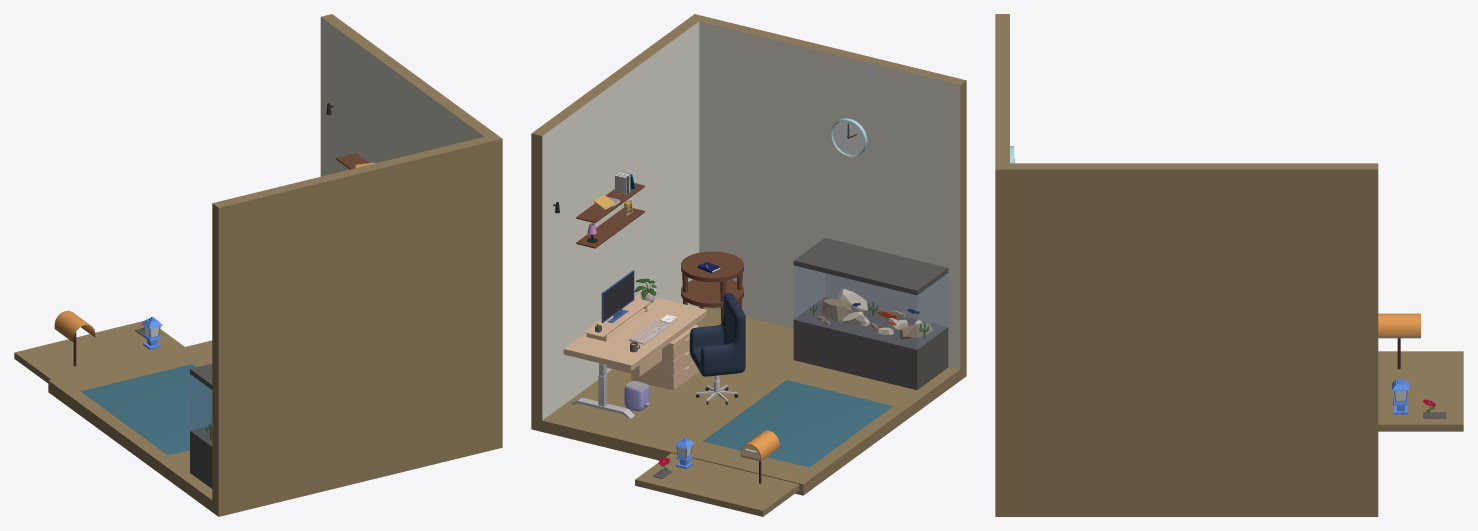
File: Final Isometric Room.glb
3 renders of one model, left to right at view 1: azimuth 30°, elevation 25°; view 2: azimuth 150°, elevation 25°; view 3: azimuth 270°, elevation 25°, orthographic. The views are drawn at different scales.
Parts seen in each view (by area): view 1: Cube, Plane, Side Floor, Cube.124, Fishpound Glass, Cylinder.007; view 2: Cube, Cube.124, Fishpound Glass, Plane, Side Floor, Table Top, Chair Seat, Round Table Top, Round Table Base, Cylinder.006, Drawer Body, Table Top Small (+7 smaller); view 3: Cube, Side Floor, Cylinder.007.
Part boxes in pixels (bbox=[...]): Cube: bbox=[48, 14, 502, 516]; Plane: bbox=[81, 364, 212, 455]; Side Floor: bbox=[14, 320, 184, 383]; Cube.124: bbox=[190, 363, 212, 488]; Fishpound Glass: bbox=[190, 374, 211, 445]; Cylinder.007: bbox=[54, 310, 95, 342]; Cube: bbox=[531, 14, 966, 495]; Cube.124: bbox=[793, 238, 948, 389]; Fishpound Glass: bbox=[794, 266, 947, 349]; Plane: bbox=[703, 380, 892, 467]; Side Floor: bbox=[635, 453, 799, 516]; Table Top: bbox=[563, 293, 706, 370]; Chair Seat: bbox=[689, 293, 745, 376]; Round Table Top: bbox=[681, 251, 743, 282]; Round Table Base: bbox=[681, 279, 743, 307]; Cylinder.006: bbox=[831, 118, 867, 156]; Drawer Body: bbox=[631, 325, 698, 390]; Table Top Small: bbox=[584, 297, 650, 341]; Cube: bbox=[995, 14, 1378, 516]; Side Floor: bbox=[1378, 351, 1463, 431]; Cylinder.007: bbox=[1378, 313, 1420, 338].
Size of the model in its own units: 11.37 by 11.82 by 14.46.
Materials: 50 (1 with a texture image).
